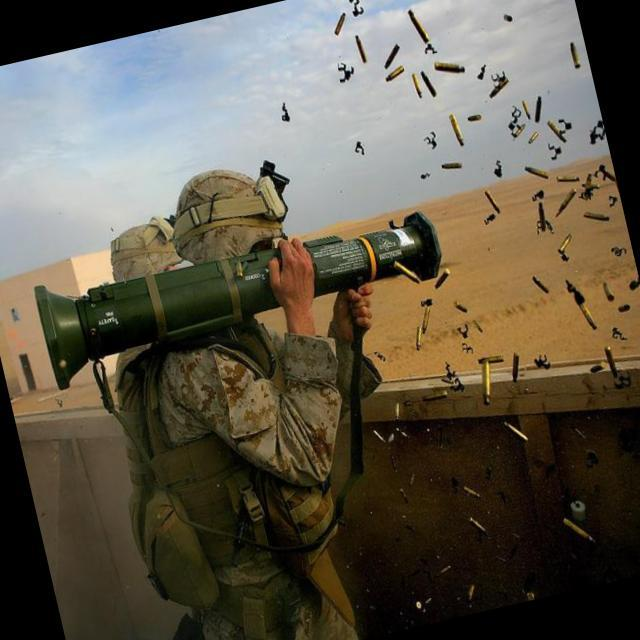rocket: (11, 192, 462, 393)
